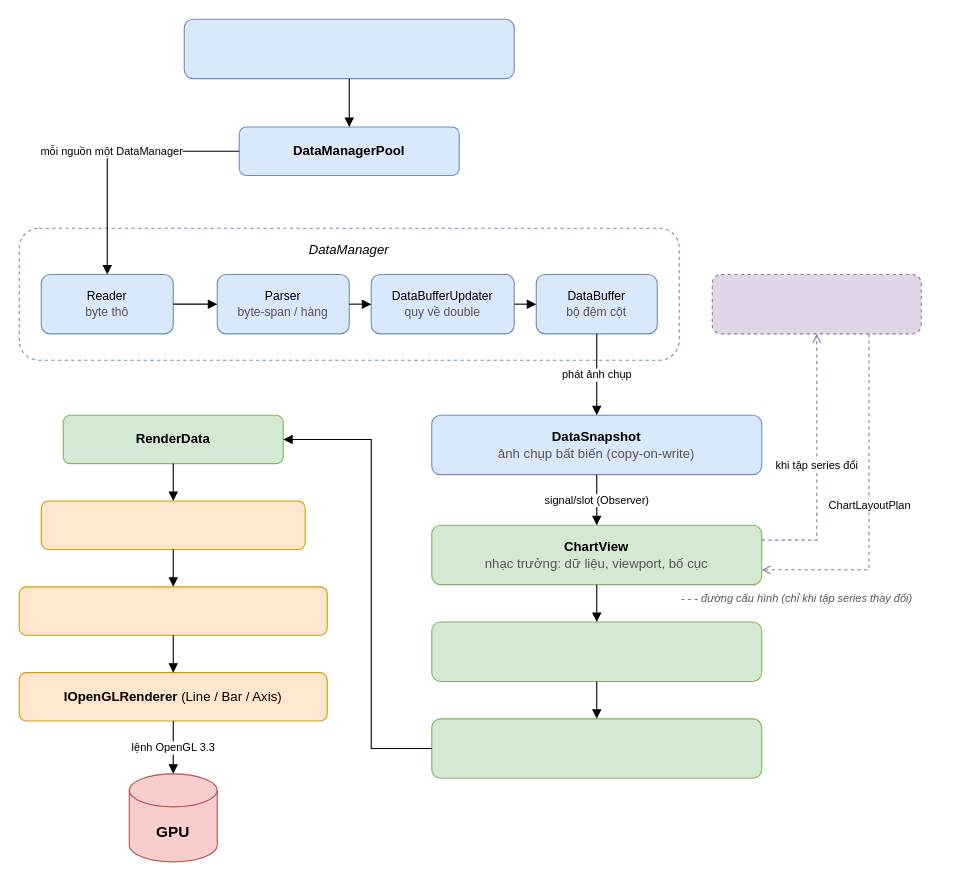
Image size: 963x881. Some labels were removed from this diagram. Here are the shapes that lost their labels. From the top down, the box of each, then its label:
(183, 18, 514, 79): DataSource (QML) url + format (CSV, JSON/WebSocket,...)
(711, 273, 921, 334): ChartLayoutPlanner kiểm tra hợp lệ · hệ tọa độ · lề
(40, 500, 305, 549): ChartRenderPackage
(18, 586, 327, 635): ChartRenderNode (QSGRenderNode)
(431, 621, 762, 681): SeriesDataResolver phân giải cột, kiểu, phạm vi trục
(431, 718, 762, 778): ISeriesStrategy::build bộ nhớ đệm điểm + giảm mẫu
